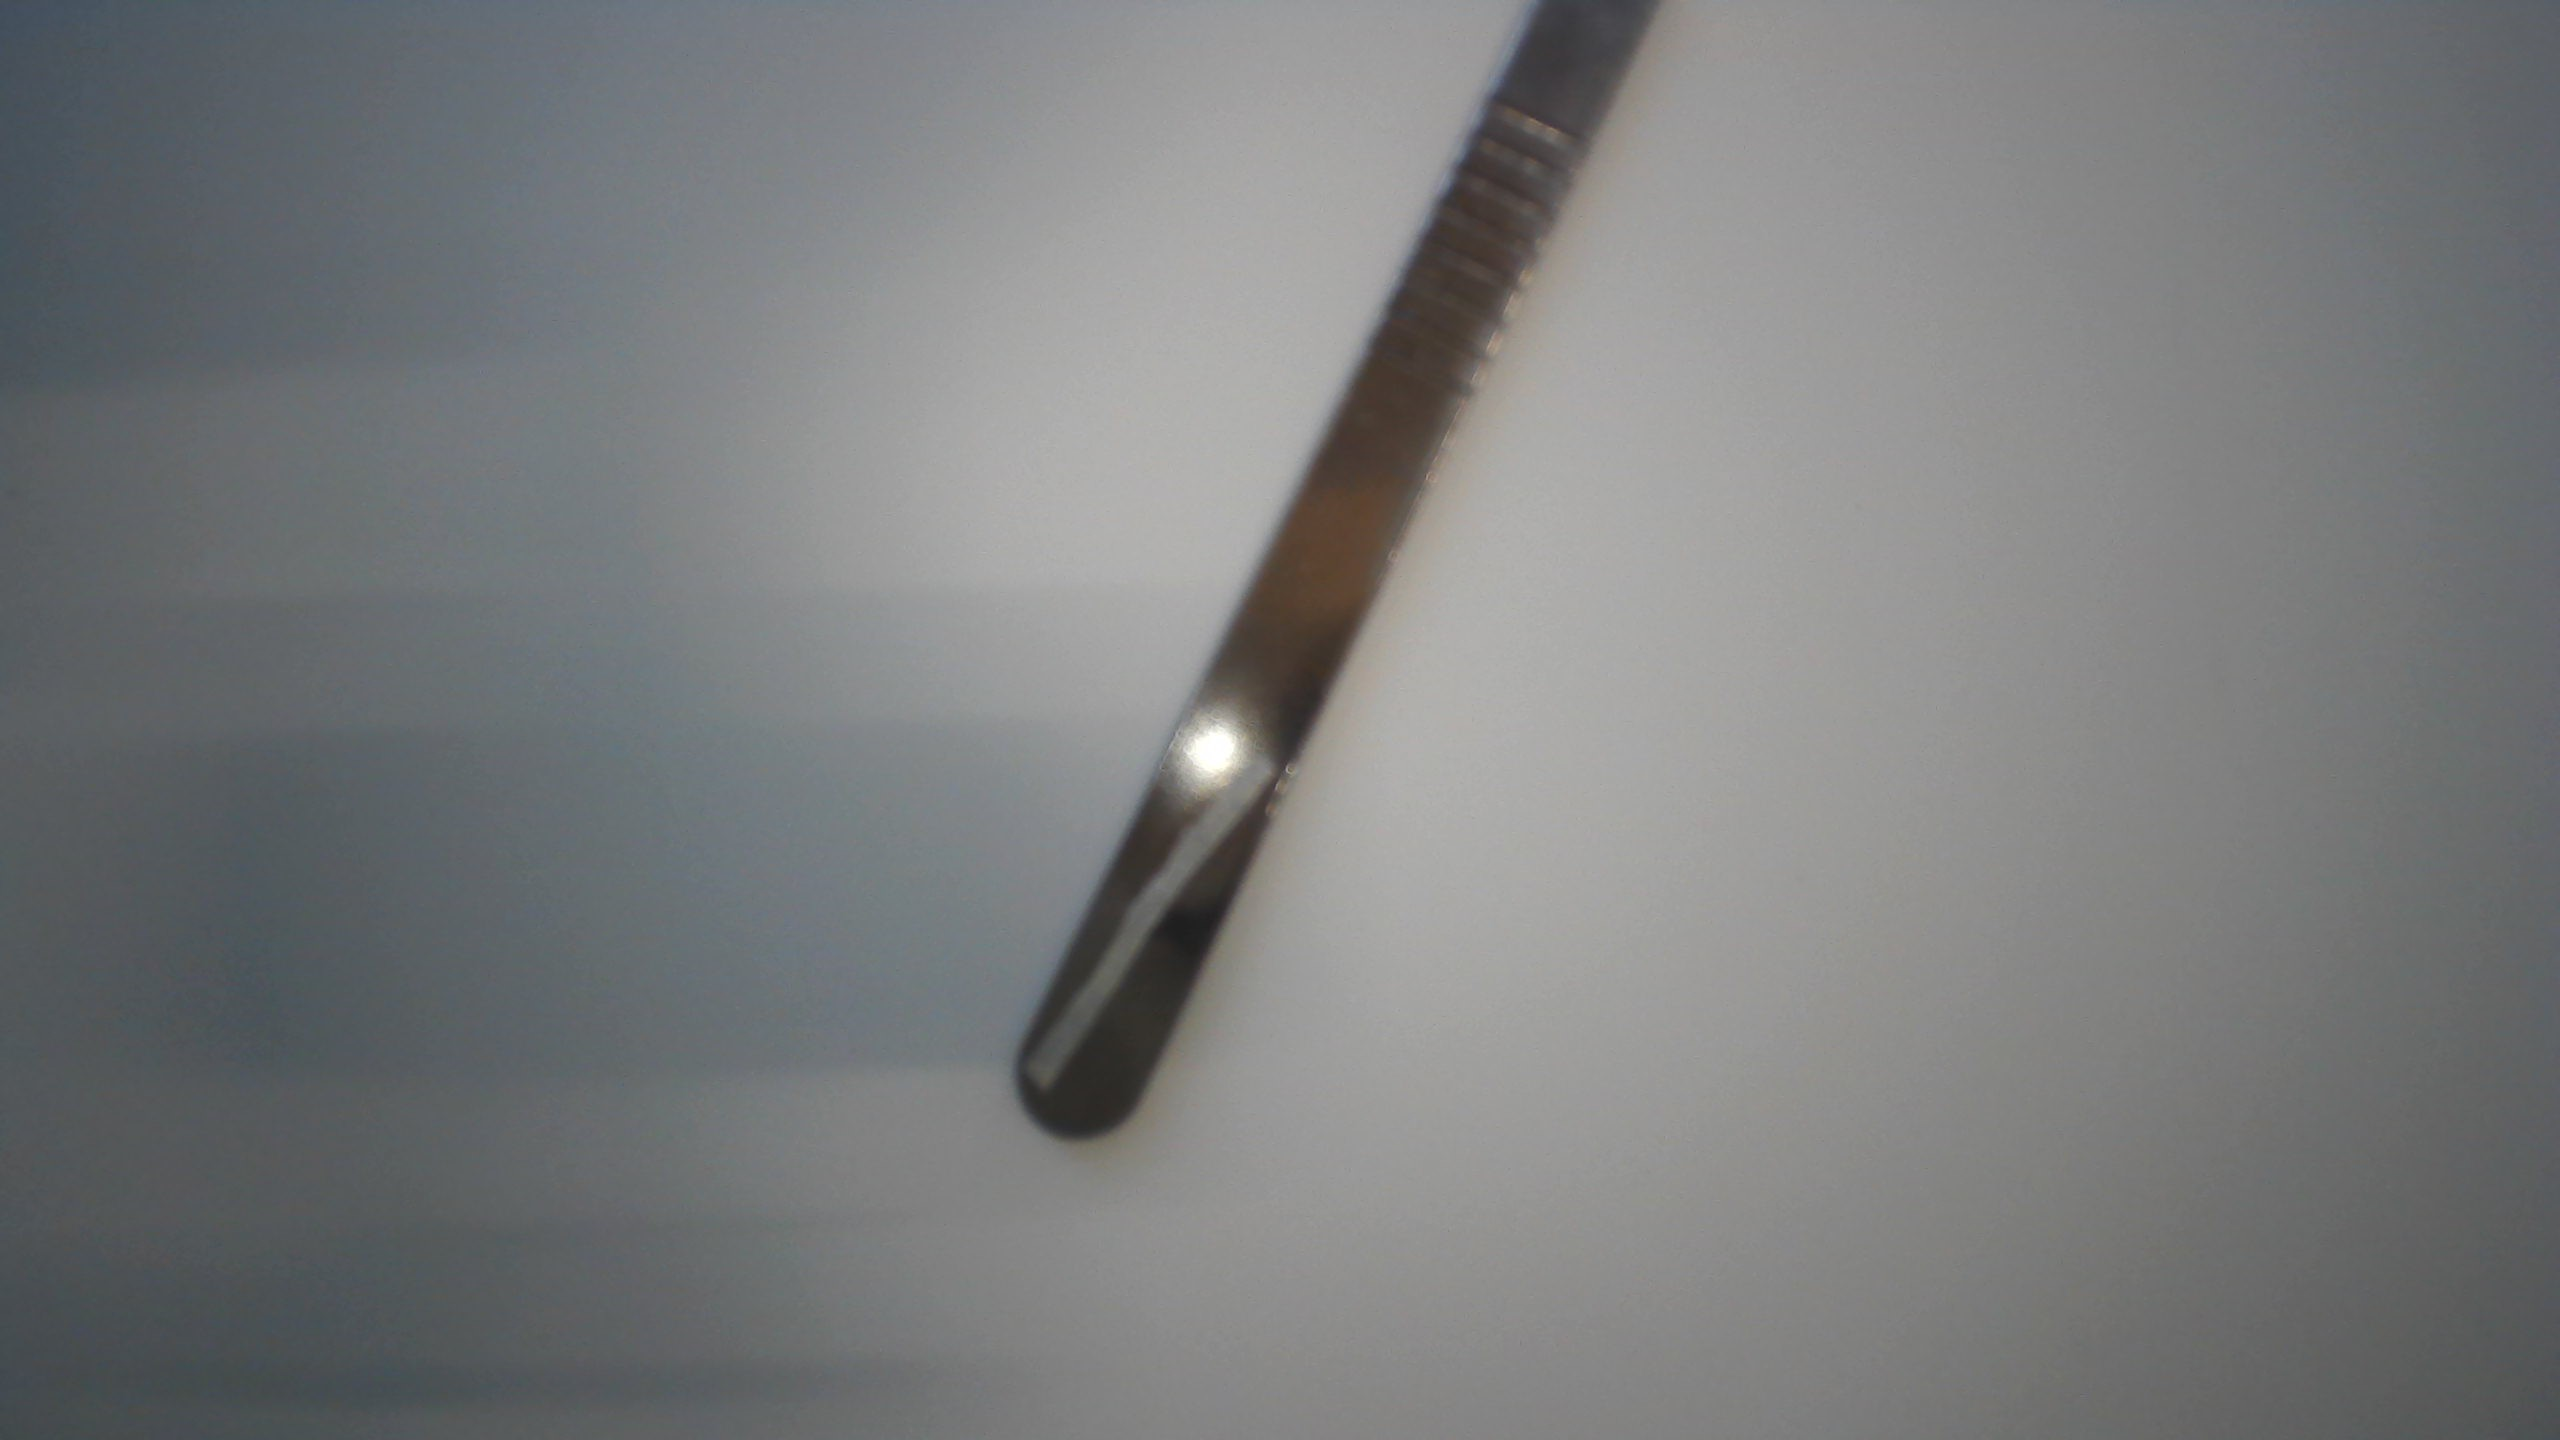Scratches: (1016, 745, 1292, 1101)
